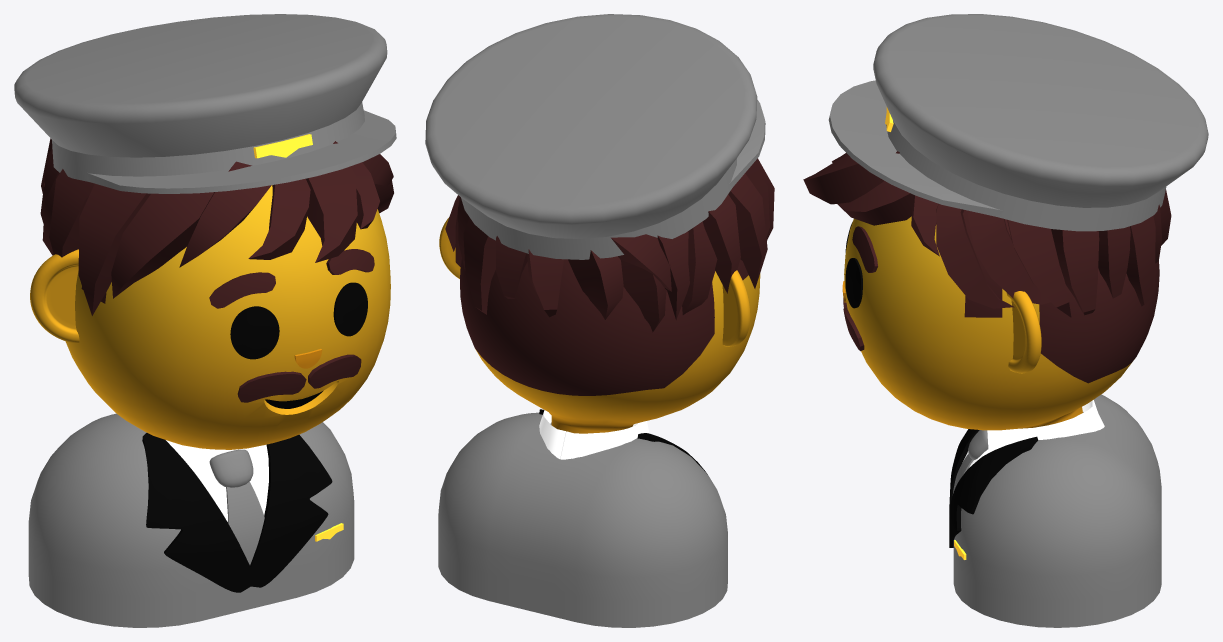
File: man_pilot.glb
3 views of the same model, side by side, from view 1: azimuth 30°, elevation 25°; view 2: azimuth 150°, elevation 25°; view 3: azimuth 270°, elevation 25° (orthographic). The views are drawn at different scales.
Visible parts, largest first — view 1: Circle.732, Roundcube.131, Sphere.091, Cube.1592, Circle.729, Circle.726, Cylinder.109, Circle.730, Circle.728, Circle.731, Cube.1605, Cube.1607 (+1 smaller); view 2: Circle.732, Sphere.091, Roundcube.131, Cube.1592, Plane.068, Cylinder.109; view 3: Circle.732, Roundcube.131, Sphere.091, Cube.1592, Circle.729, Cylinder.109, Plane.068, Circle.726, Circle.728.
Boxes of the visible parts, bbox=[...] form: Circle.732: bbox=[14, 14, 396, 193]; Roundcube.131: bbox=[65, 185, 390, 449]; Sphere.091: bbox=[28, 413, 354, 627]; Cube.1592: bbox=[40, 138, 393, 315]; Circle.729: bbox=[142, 433, 332, 592]; Circle.726: bbox=[230, 282, 367, 359]; Cylinder.109: bbox=[30, 249, 79, 343]; Circle.730: bbox=[237, 354, 361, 402]; Circle.728: bbox=[209, 249, 374, 308]; Circle.731: bbox=[226, 481, 264, 564]; Cube.1605: bbox=[209, 449, 253, 487]; Cube.1607: bbox=[253, 134, 312, 158]; Circle.732: bbox=[425, 14, 765, 259]; Sphere.091: bbox=[438, 412, 727, 627]; Roundcube.131: bbox=[460, 259, 760, 433]; Cube.1592: bbox=[445, 158, 774, 332]; Plane.068: bbox=[539, 410, 649, 459]; Cylinder.109: bbox=[439, 217, 750, 346]; Circle.732: bbox=[828, 14, 1208, 231]; Roundcube.131: bbox=[844, 210, 1159, 430]; Sphere.091: bbox=[953, 394, 1161, 627]; Cube.1592: bbox=[803, 151, 1171, 317]; Circle.729: bbox=[949, 429, 1038, 547]; Cylinder.109: bbox=[1006, 291, 1041, 373]; Plane.068: bbox=[987, 400, 1104, 452]; Circle.726: bbox=[845, 222, 862, 308]; Circle.728: bbox=[852, 226, 877, 272].
Bounding box in the file's own units: 1.63 × 2.48 × 1.8.
2 materials, 2 textured.
